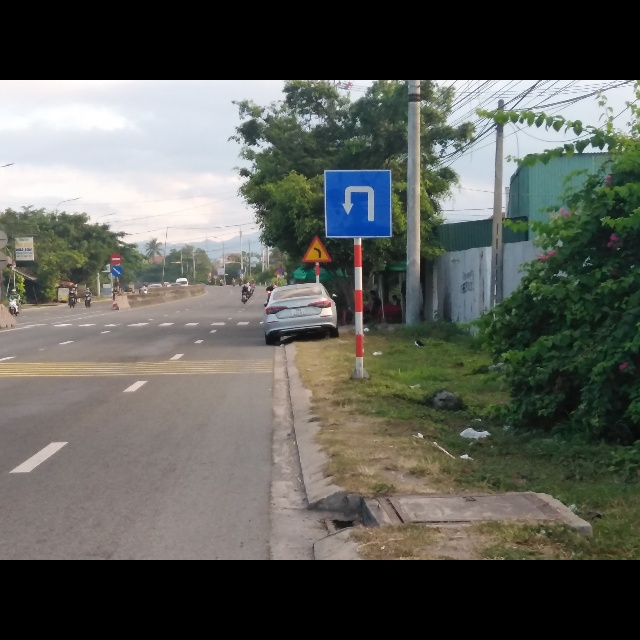Khu vực quay đầu xe: (324, 166, 394, 240)
